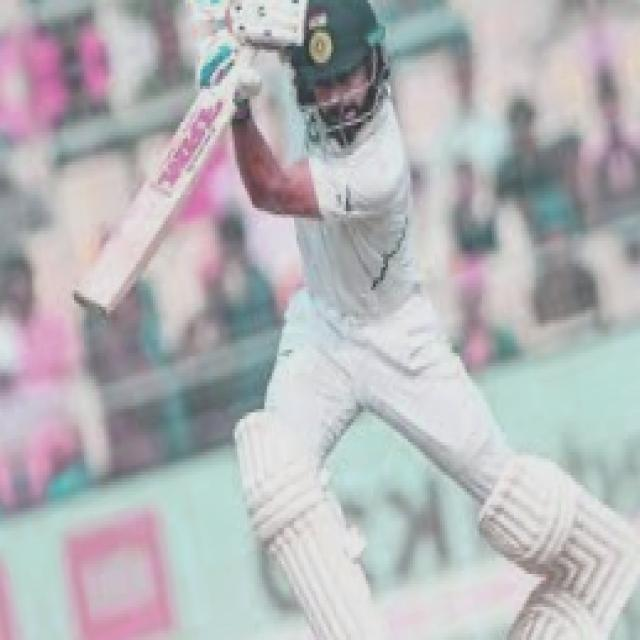bat: (67, 88, 230, 325)
toe: (67, 293, 121, 318)
